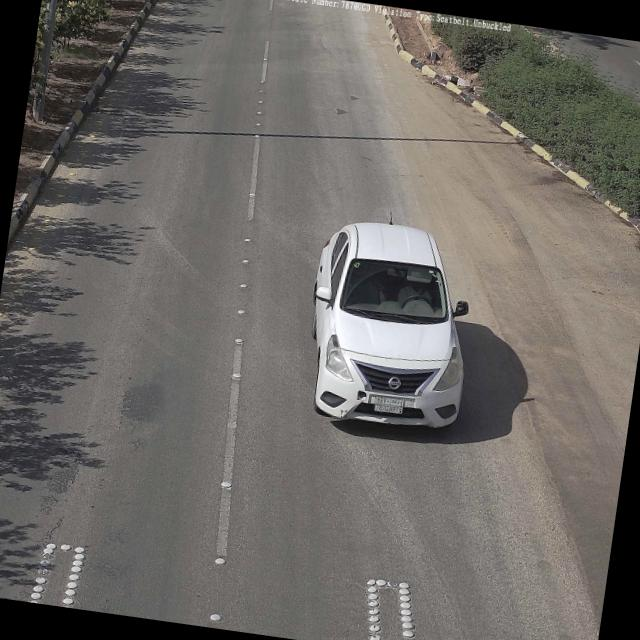person_with_seatbelt: (396, 270, 438, 310)
